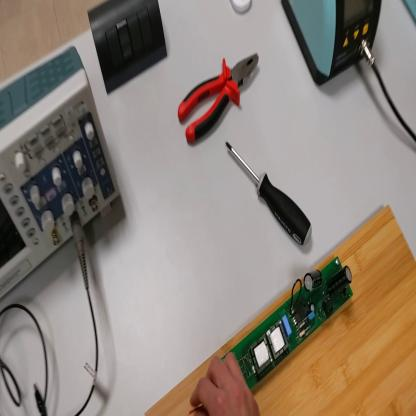hand: (190, 355, 258, 413)
high voltage board: (187, 257, 353, 415)
oscilloscope: (1, 47, 121, 304)
pliers: (179, 46, 261, 148)
screwdriver-: (226, 138, 315, 247)
welder station: (281, 1, 384, 86)
working area: (146, 194, 416, 413)
